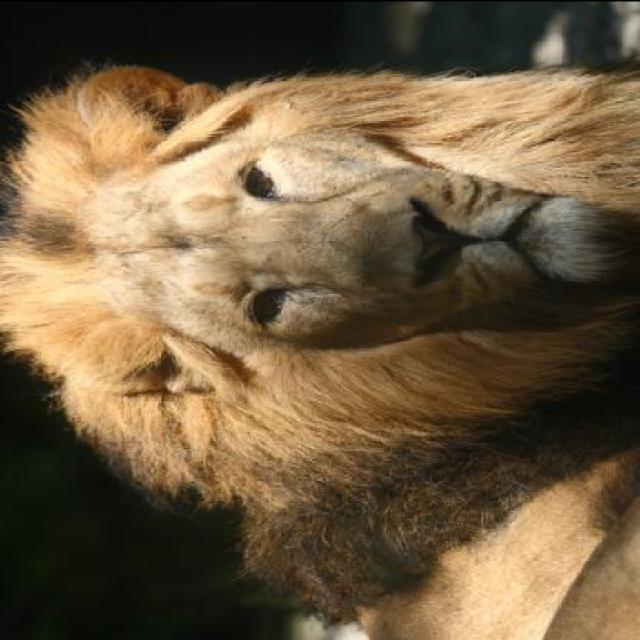Lion: (16, 1, 638, 632)
